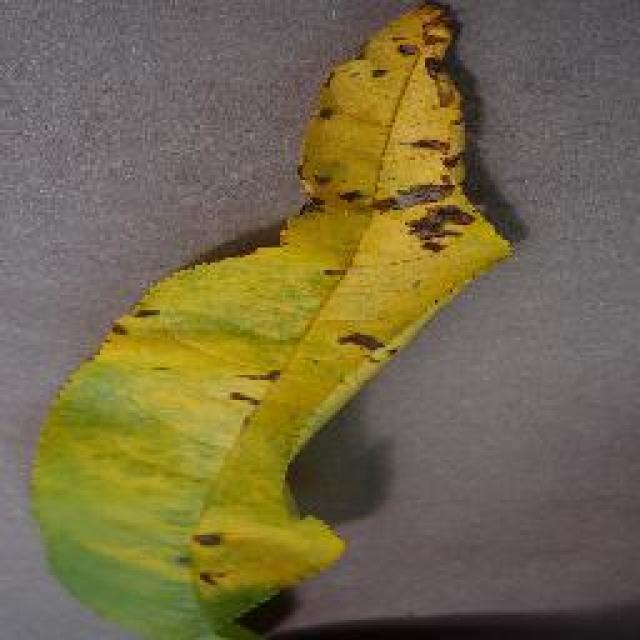Peach_Bacterial_Spot: (243, 48, 492, 310)
